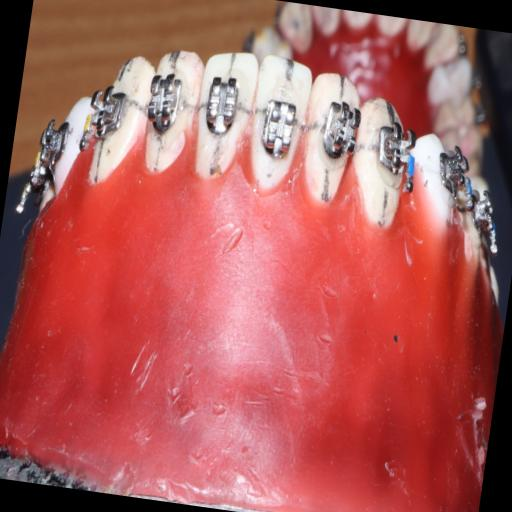incorrect_brace: (198, 72, 242, 146), (256, 94, 302, 164)
